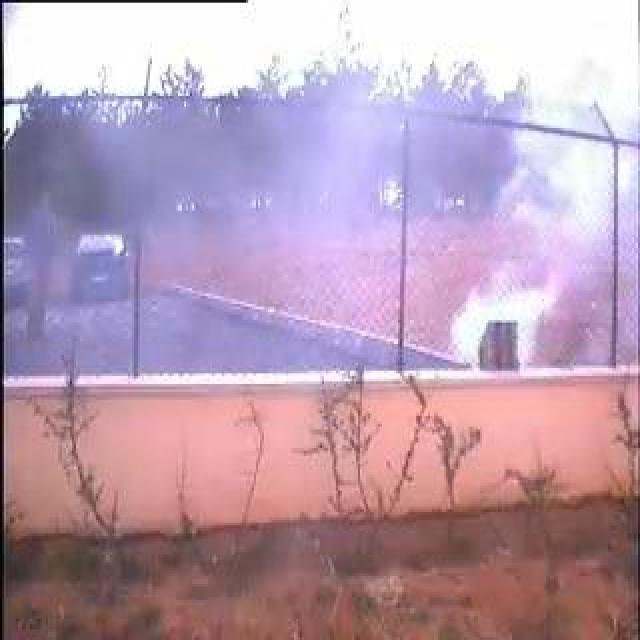Smoke: (449, 77, 621, 376)
